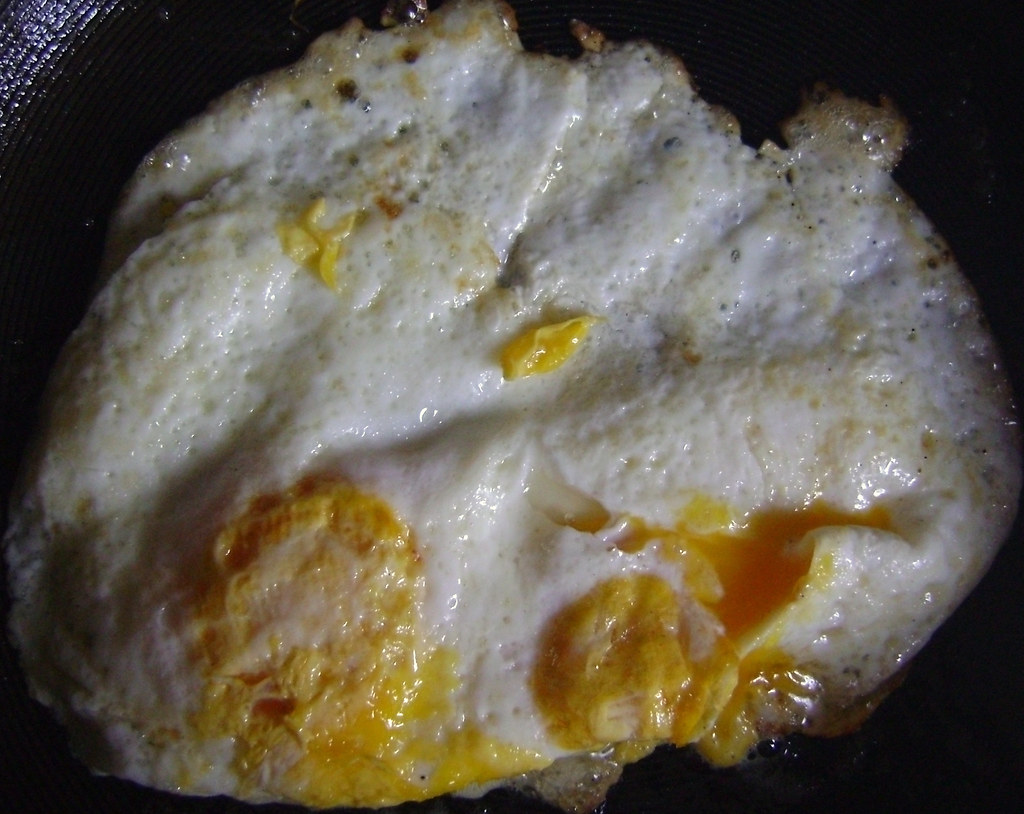fried_eggs: (89, 186, 514, 793), (544, 147, 915, 731)
